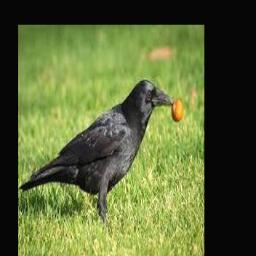Crow: (19, 78, 174, 223)
